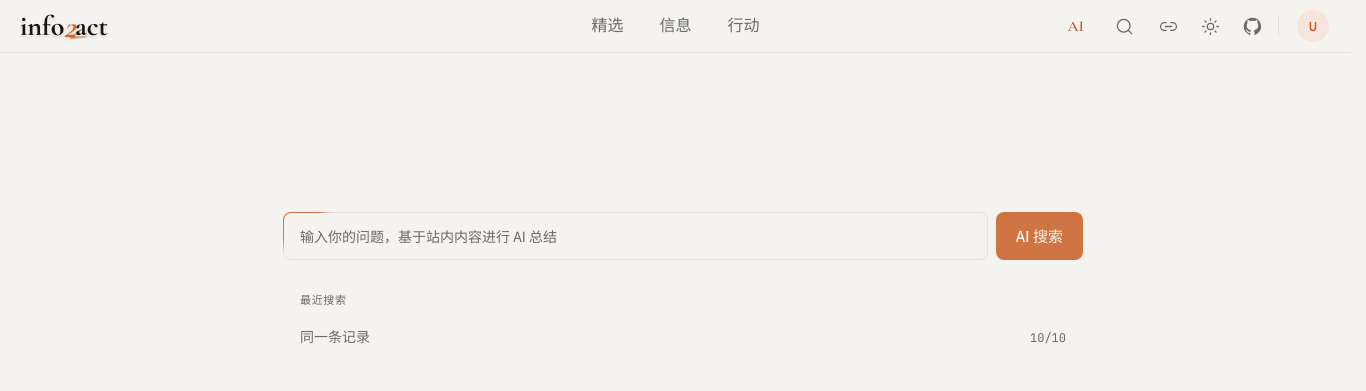
AiSearchPage route lifecycle › retries the same history row after opening it fails: 500
Click the link "同一条记录 10/10": {"x": 335, "y": 337} [300, 330, 1066, 346]
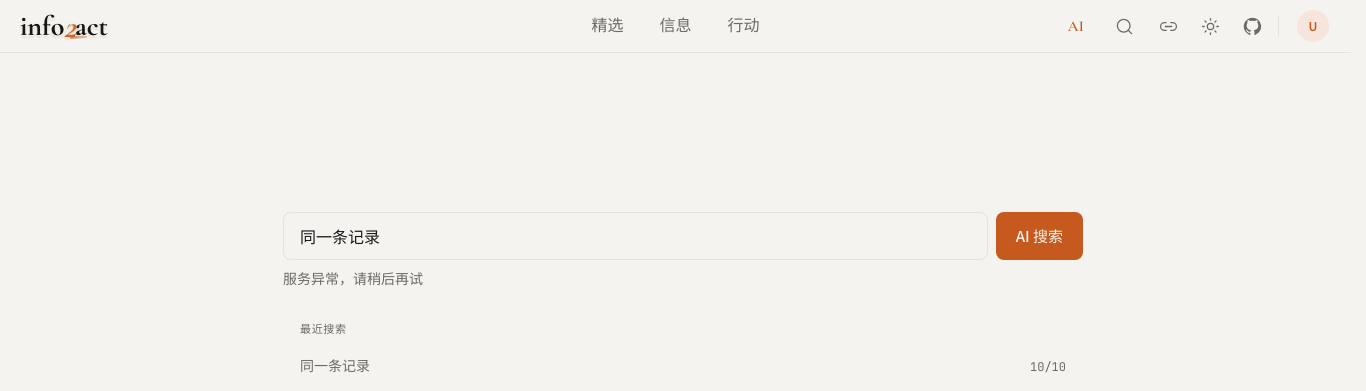
Expected: the message "服务异常，请稍后再试" is shown, [283, 268, 423, 288]
Click the link "同一条记录 10/10": {"x": 335, "y": 366} [300, 358, 1066, 374]
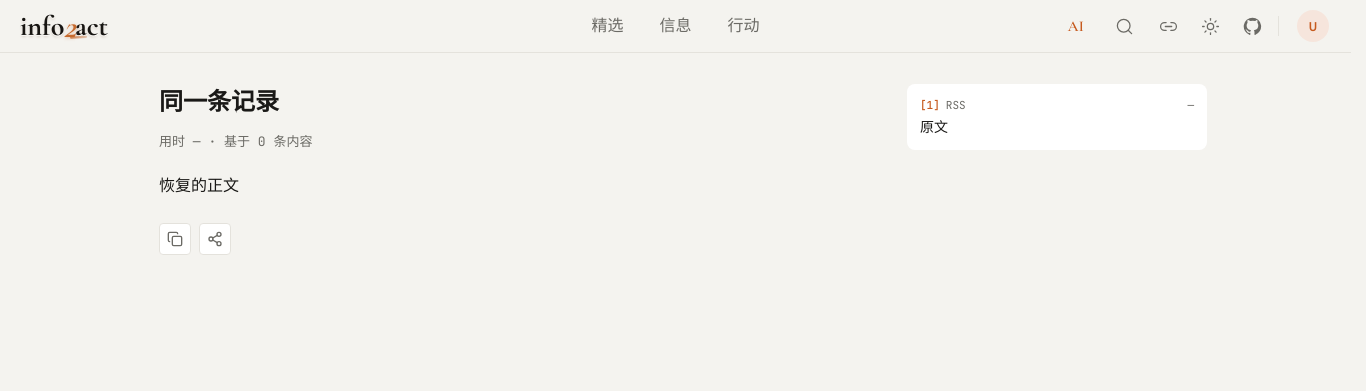
Expected: the text "恢复的正文" is shown, [159, 176, 239, 194]
